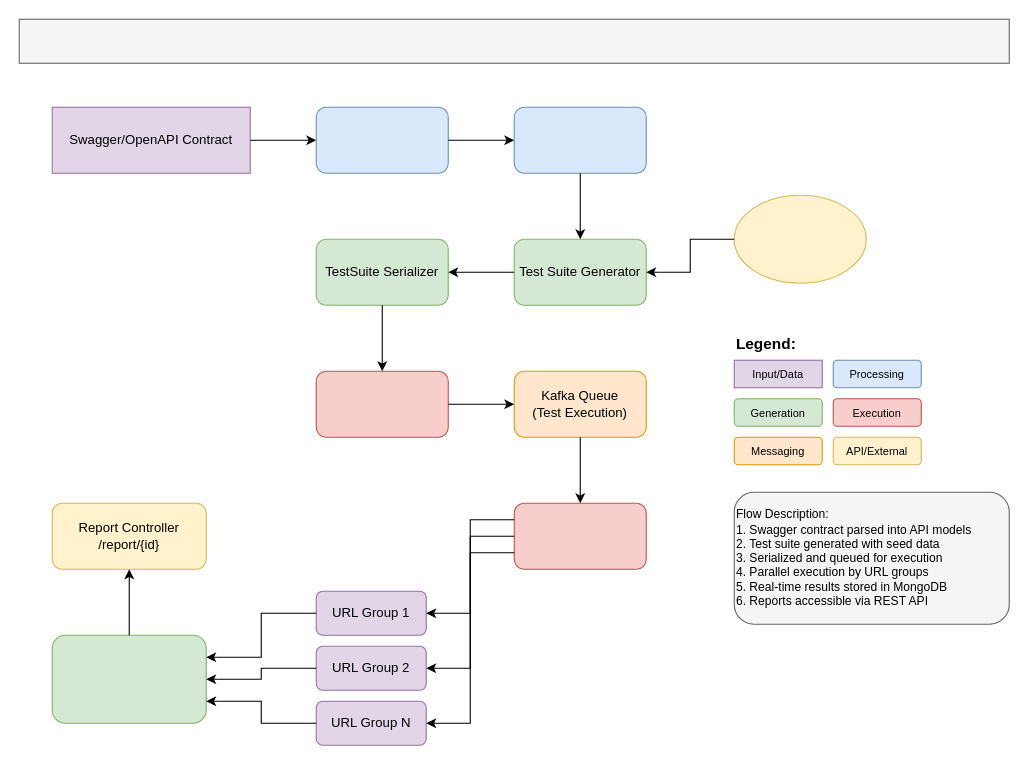
Image size: 1029x765. Some labels were removed from this diagram. Here are the shapes that lost their labels. From the top down, the box of each, then its label:
(18, 18, 1009, 63): SpecShield API Testing Framework - System Architecture
(315, 106, 448, 173): Swagger Parser
(513, 106, 646, 173): API Model Converter
(733, 194, 866, 283): Seed Data / Headers
(315, 370, 448, 437): TestSuite Service
(513, 502, 646, 569): Executor Service (Parallel Processing)
(51, 634, 206, 723): MongoDB (TestResult Collection) Real-time Updates
